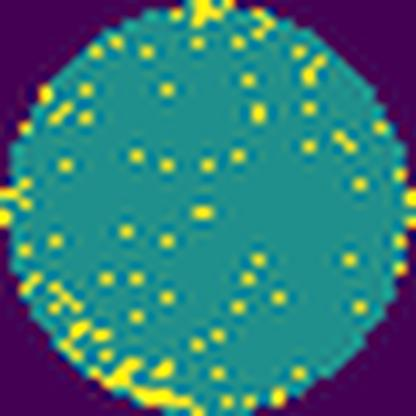Edge-Loc: (84, 352, 208, 413), (186, 0, 228, 30)
